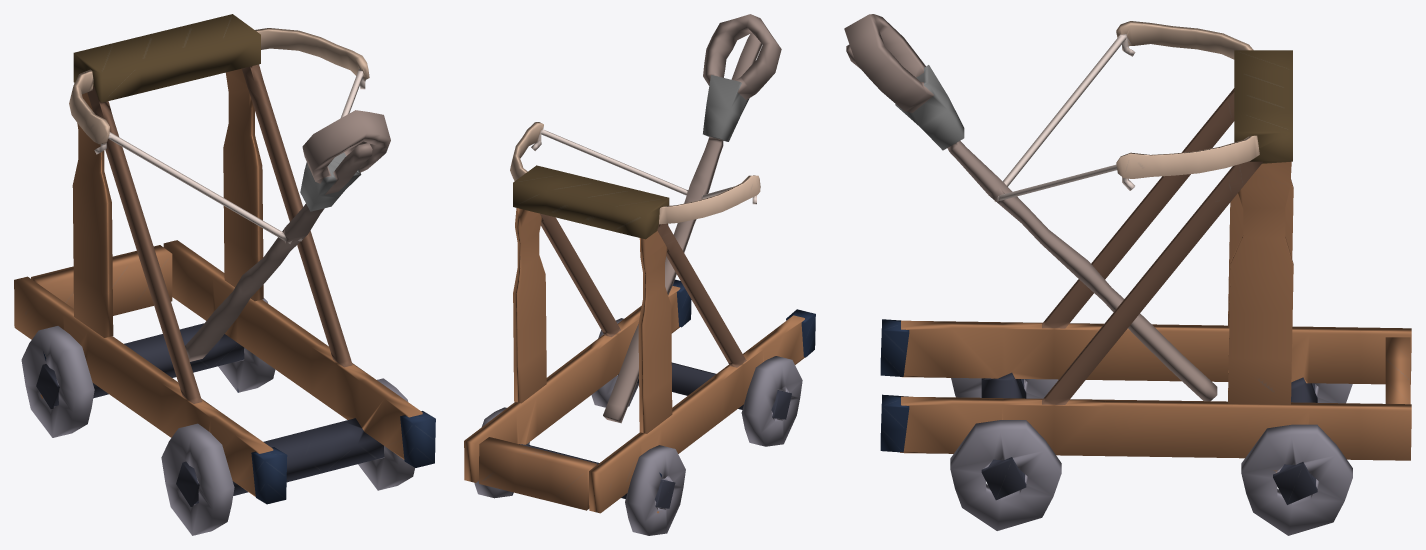
File: catapult.fbx
3 views of the same model, side by side, from view 1: azimuth 30°, elevation 25°; view 2: azimuth 150°, elevation 25°; view 3: azimuth 270°, elevation 25° (orthographic). The views are drawn at different scales.
Visible parts, largest first — view 1: unamed; view 2: unamed; view 3: unamed.
Boxes of the visible parts, bbox=[...] form: unamed: bbox=[14, 14, 435, 535]; unamed: bbox=[464, 14, 815, 535]; unamed: bbox=[844, 14, 1411, 535].
Bounding box in the file's own units: 0.6157 × 0.975 × 1.07.
1 material, 1 textured.
